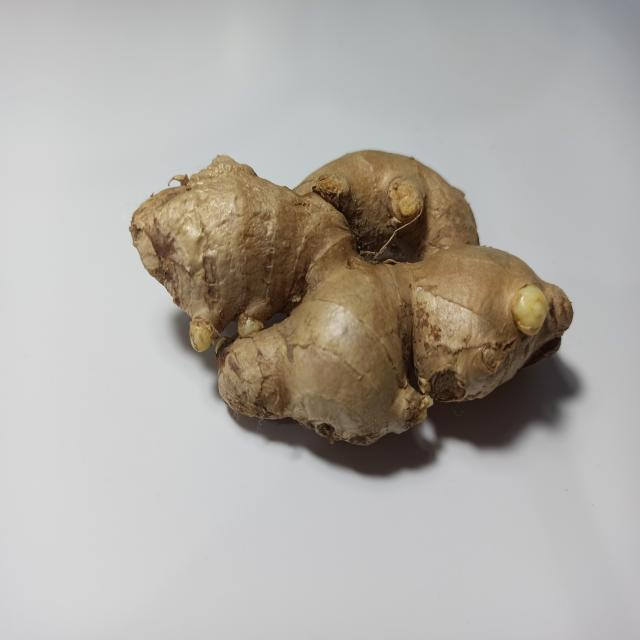ginger: (130, 157, 568, 435)
